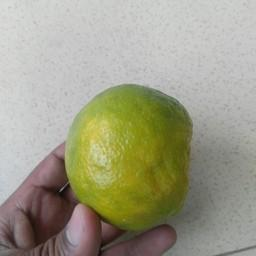Good_orange: (64, 81, 198, 235)
